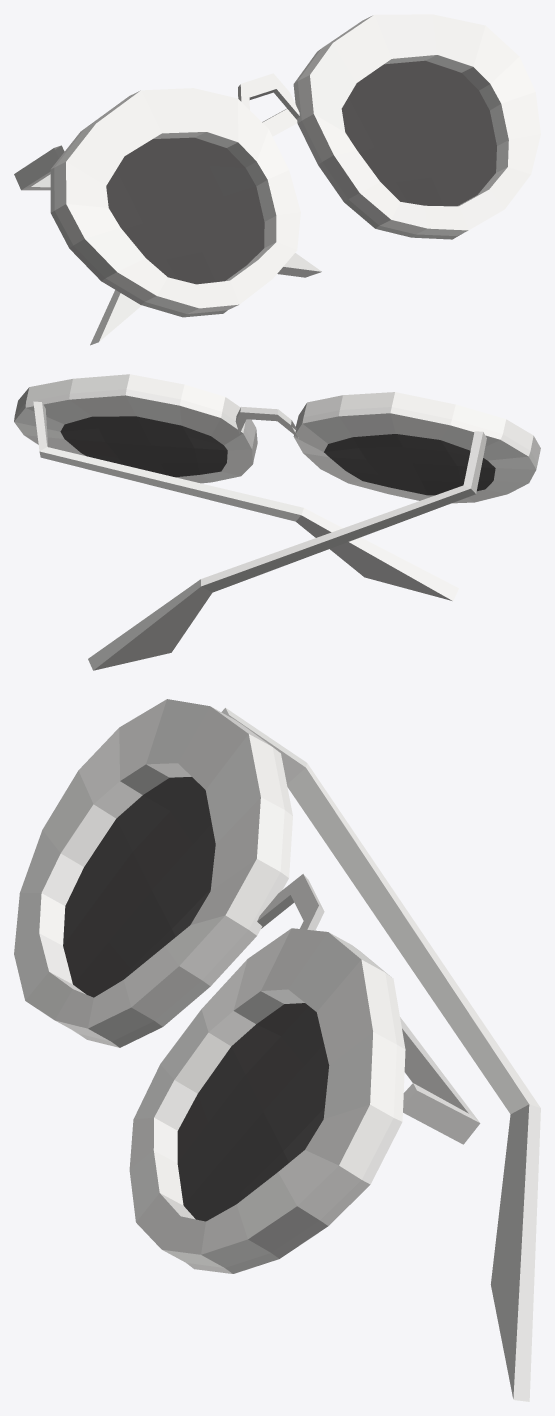
The model's file is Isl_11_Sunglasses_2.fbx.
3 renders of one model, top to bottom at view 1: azimuth 30°, elevation 25°; view 2: azimuth 150°, elevation 25°; view 3: azimuth 270°, elevation 25°, orthographic. The views are drawn at different scales.
Parts seen in each view (by area): view 1: Isl_11_Sunglasses_2; view 2: Isl_11_Sunglasses_2; view 3: Isl_11_Sunglasses_2.
Part boxes in pixels (x1=…): Isl_11_Sunglasses_2: x1=14, y1=14, x2=540, y2=345; Isl_11_Sunglasses_2: x1=14, y1=374, x2=540, y2=670; Isl_11_Sunglasses_2: x1=14, y1=699, x2=540, y2=1401.
Size of the model in its own units: 20.39 by 11.6 by 11.63.
1 material, 1 textured.
